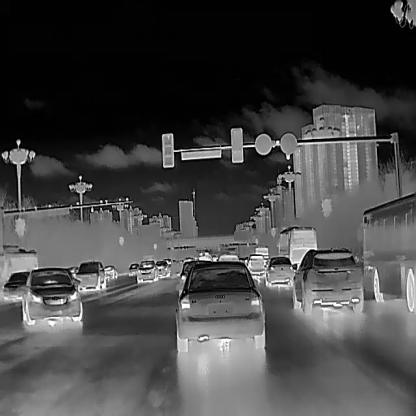bus: (356, 191, 414, 313), (275, 224, 317, 270), (253, 244, 269, 258)
car: (175, 259, 266, 353), (290, 245, 363, 316), (19, 267, 82, 325), (74, 260, 107, 290), (263, 256, 294, 286), (2, 271, 31, 299), (136, 258, 157, 283), (244, 254, 266, 276), (155, 259, 170, 277), (102, 264, 118, 280), (218, 250, 237, 260), (127, 262, 139, 276)
truck: (198, 249, 211, 260)
